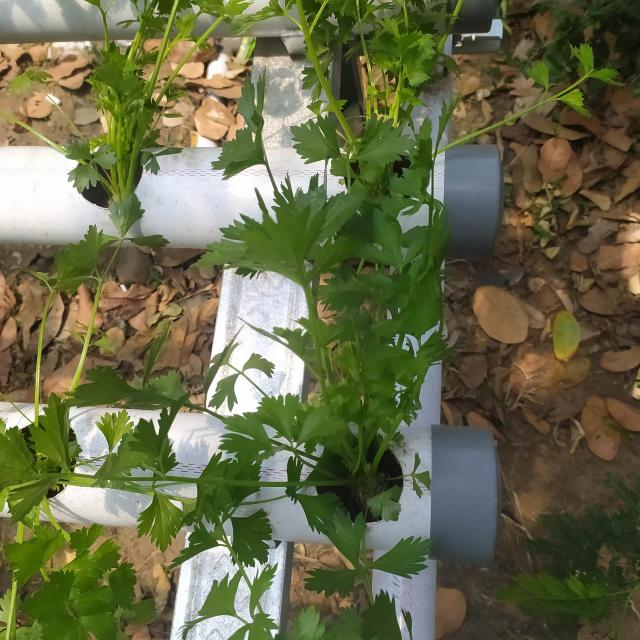Wet Waste: (85, 184, 544, 485)
